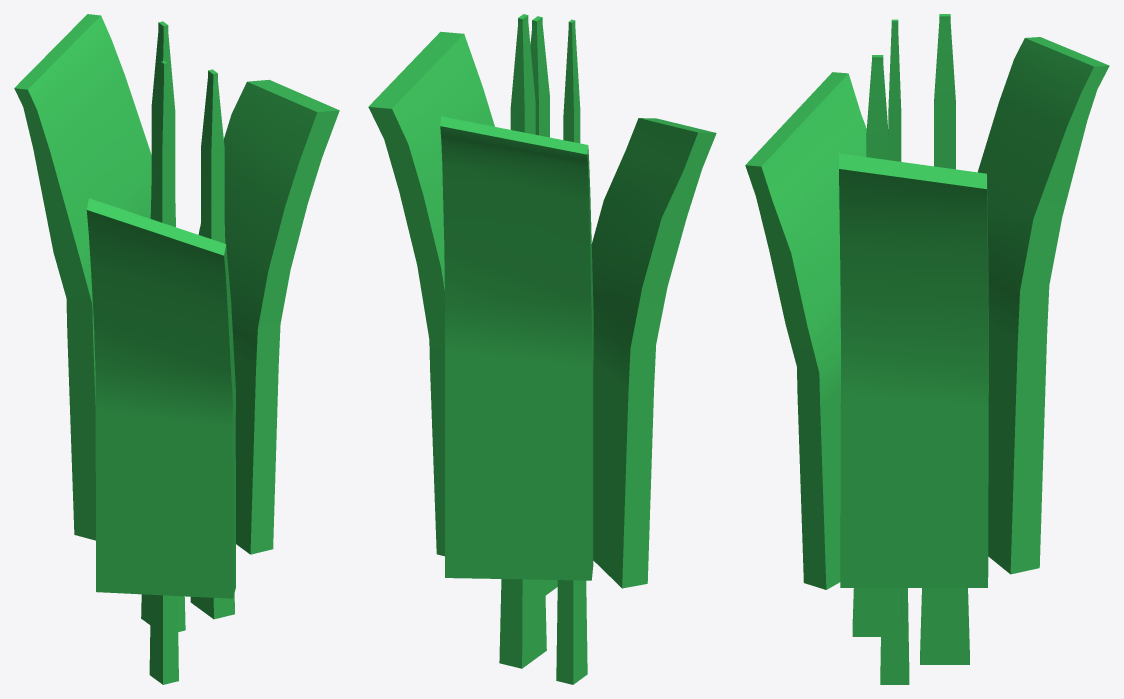
The model's file is Plant_1.fbx.
3 views of the same model, side by side, from view 1: azimuth 30°, elevation 25°; view 2: azimuth 150°, elevation 25°; view 3: azimuth 270°, elevation 25° (orthographic). The views are drawn at different scales.
Parts seen in each view (by area): view 1: pCube13; view 2: pCube13; view 3: pCube13.
Boxes of the visible parts, bbox=[...] form: pCube13: bbox=[14, 14, 339, 684]; pCube13: bbox=[368, 14, 716, 684]; pCube13: bbox=[745, 14, 1109, 684].
Bounding box in the file's own units: 215 × 506 × 247.
